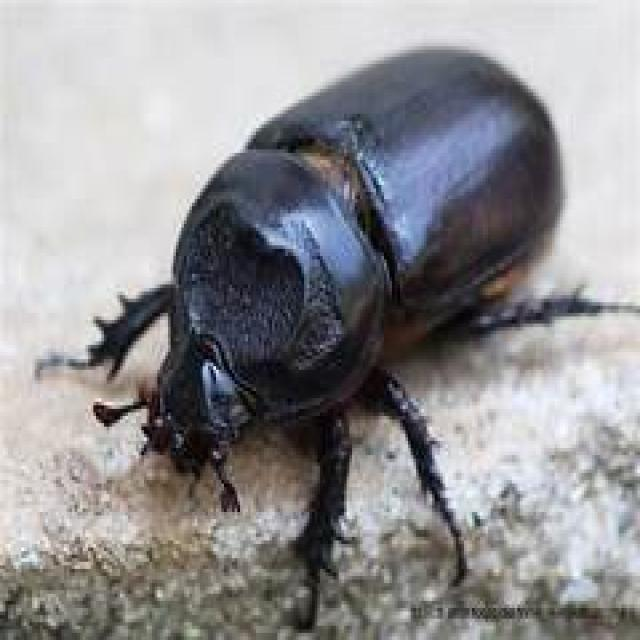Rhino-beetle: (63, 36, 608, 604)
